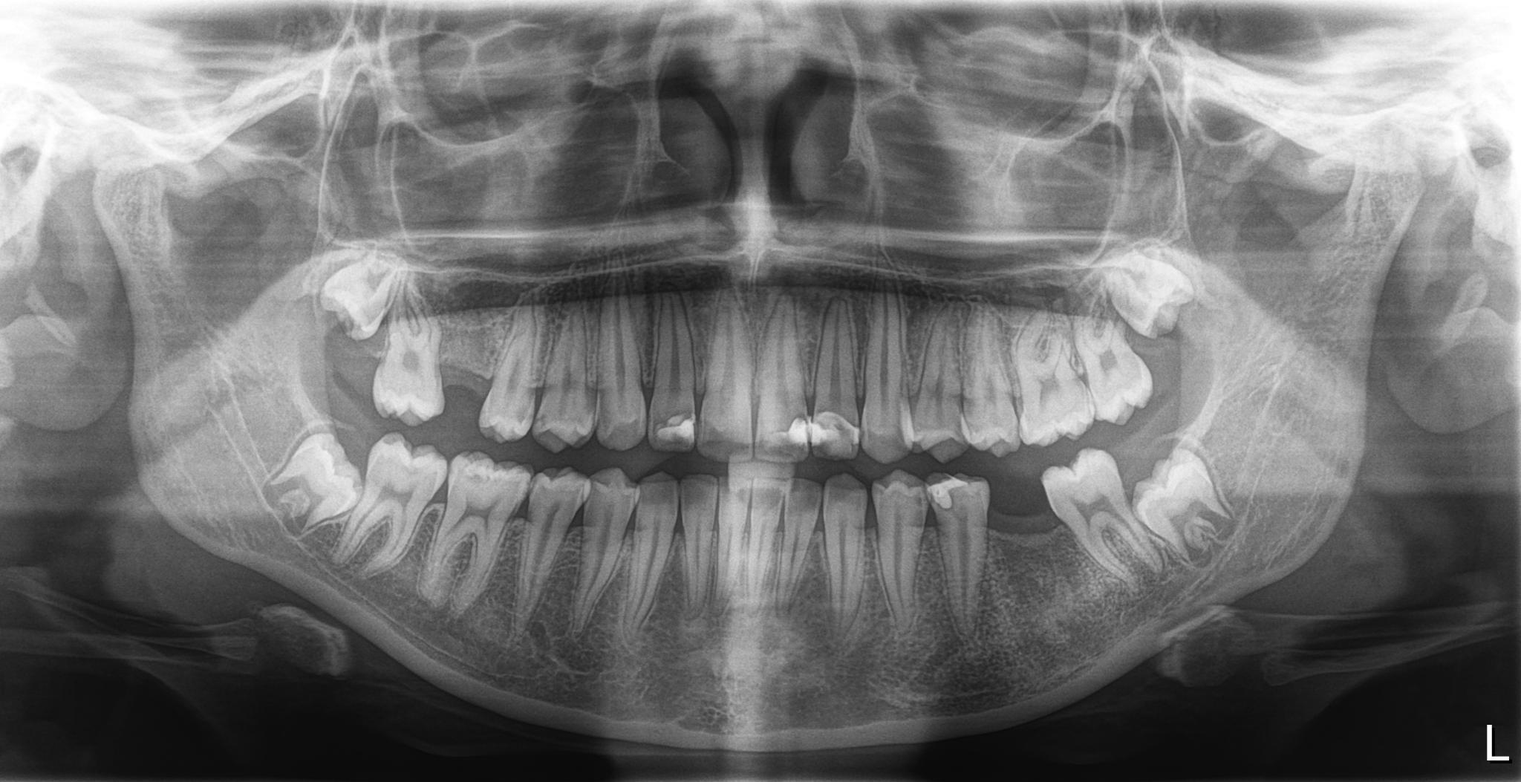Endodontically Treated Tooth: (936, 470, 974, 608)
Impacted Third Molar: (1129, 451, 1241, 549), (273, 431, 356, 541), (1103, 253, 1193, 332), (325, 262, 385, 324)
Missing Tooth: (980, 485, 1063, 629), (438, 323, 495, 410)
